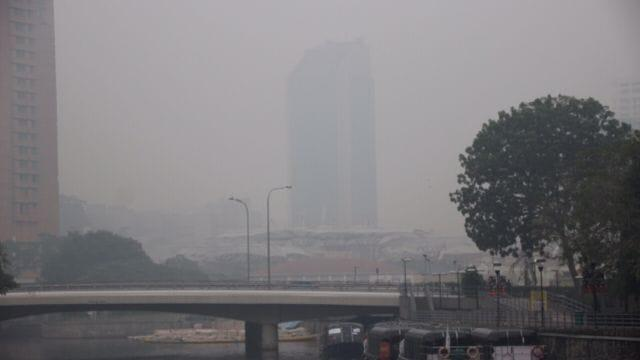Deteksi-Objek-Citra-Berasap: (0, 0, 640, 360)
Gedung: (285, 40, 378, 229), (0, 0, 59, 248)
Kendaraan: (403, 322, 551, 360), (316, 319, 366, 360), (361, 319, 406, 360)
Vegetasi: (448, 93, 640, 295), (35, 226, 183, 283)
